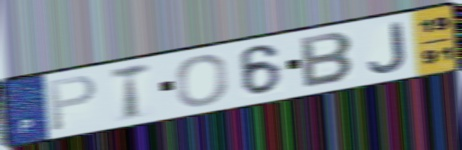6: (236, 43, 285, 98)
B: (298, 30, 357, 90)
J: (366, 19, 408, 75)
O: (175, 53, 231, 108)
P: (46, 73, 99, 134)
T: (108, 60, 153, 122)
